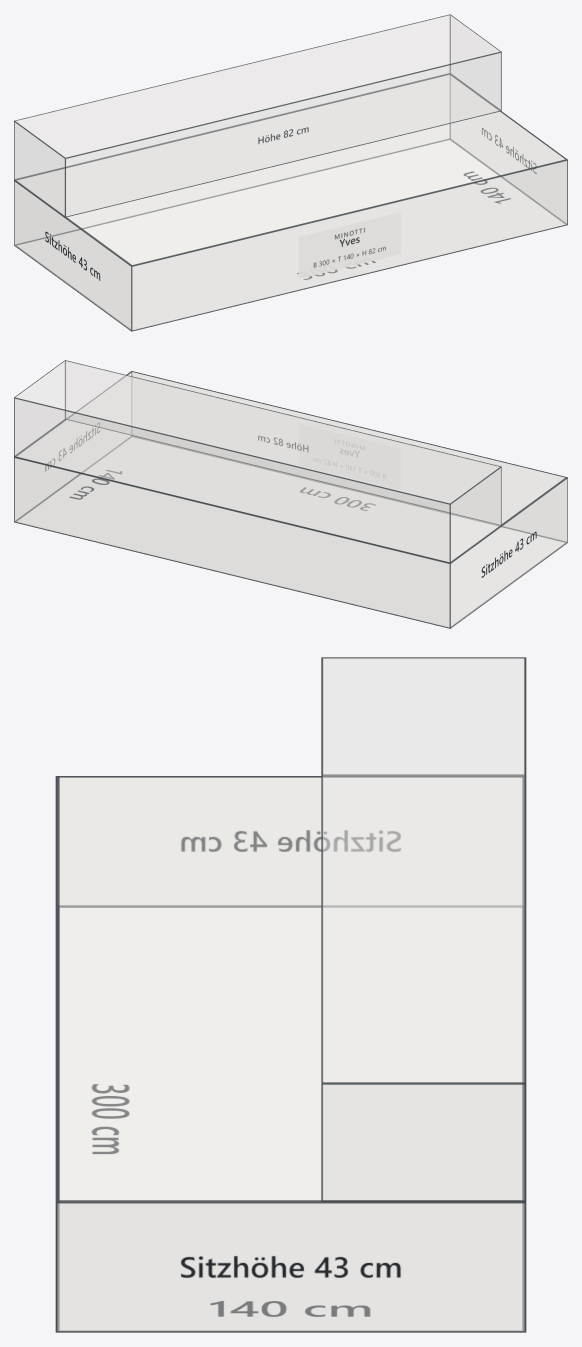
File: sofas-yves--bend-sofa-mix-300x140-cm.glb
The picture shows the model from 3 angles, top to bottom: view 1: azimuth 30°, elevation 25°; view 2: azimuth 150°, elevation 25°; view 3: azimuth 270°, elevation 25°; orthographic projection. The views are drawn at different scales.
Visible parts, largest first — view 1: sitz_oben, Grundflaeche, sitz_vorne, sitz_hinten, ruecken_vorne, ruecken_hinten, ruecken_oben, sitz_links, sitz_rechts, ruecken_links, ruecken_rechts; view 2: Grundflaeche, sitz_oben, sitz_hinten, ruecken_hinten, ruecken_vorne, ruecken_oben, sitz_vorne, sitz_links, sitz_rechts, ruecken_links, ruecken_rechts; view 3: sitz_oben, Grundflaeche, ruecken_oben, sitz_rechts, sitz_links, ruecken_rechts, ruecken_links.
Boxes of the visible parts, bbox=[...] form: sitz_oben: bbox=[15, 74, 567, 266]; Grundflaeche: bbox=[15, 139, 566, 330]; sitz_vorne: bbox=[131, 160, 567, 331]; sitz_hinten: bbox=[14, 75, 450, 244]; ruecken_vorne: bbox=[65, 52, 501, 217]; ruecken_hinten: bbox=[14, 15, 450, 179]; ruecken_oben: bbox=[14, 14, 501, 158]; sitz_links: bbox=[14, 180, 131, 331]; sitz_rechts: bbox=[450, 76, 566, 223]; ruecken_links: bbox=[14, 121, 65, 217]; ruecken_rechts: bbox=[450, 15, 500, 109]; Grundflaeche: bbox=[15, 436, 566, 627]; sitz_oben: bbox=[15, 371, 567, 562]; sitz_hinten: bbox=[14, 457, 450, 628]; ruecken_hinten: bbox=[14, 397, 450, 563]; ruecken_vorne: bbox=[65, 361, 501, 525]; ruecken_oben: bbox=[14, 360, 501, 503]; sitz_vorne: bbox=[131, 372, 567, 541]; sitz_links: bbox=[450, 477, 567, 628]; sitz_rechts: bbox=[15, 373, 131, 520]; ruecken_links: bbox=[450, 467, 501, 562]; ruecken_rechts: bbox=[15, 361, 65, 455]; sitz_oben: bbox=[55, 776, 524, 1201]; Grundflaeche: bbox=[57, 906, 524, 1331]; ruecken_oben: bbox=[321, 657, 526, 1082]; sitz_rechts: bbox=[55, 1202, 526, 1332]; sitz_links: bbox=[59, 777, 521, 906]; ruecken_rechts: bbox=[321, 1083, 526, 1201]; ruecken_links: bbox=[323, 658, 524, 775].
Size of the model in its own units: 3 by 0.82 by 1.4.
11 materials, 11 textured.
